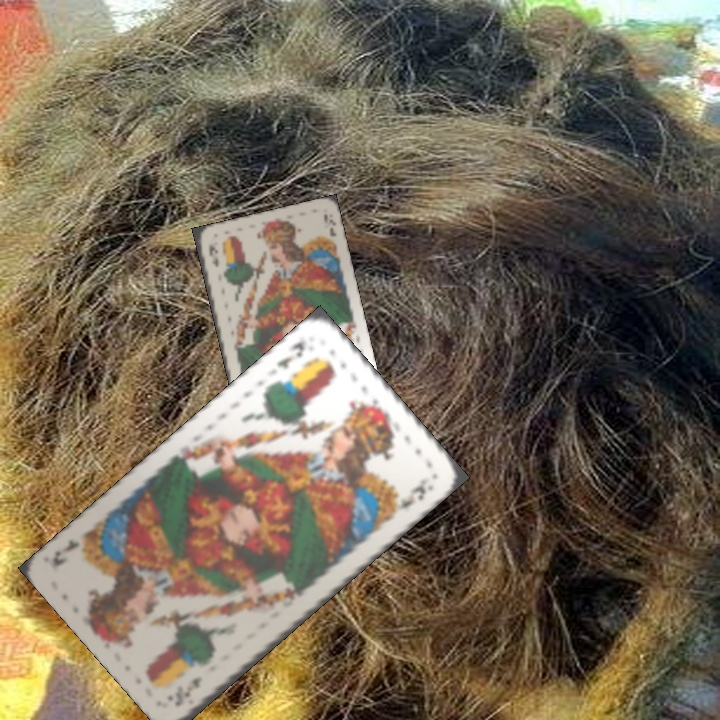EK: (272, 337, 309, 372), (170, 673, 205, 710), (205, 240, 221, 270)
